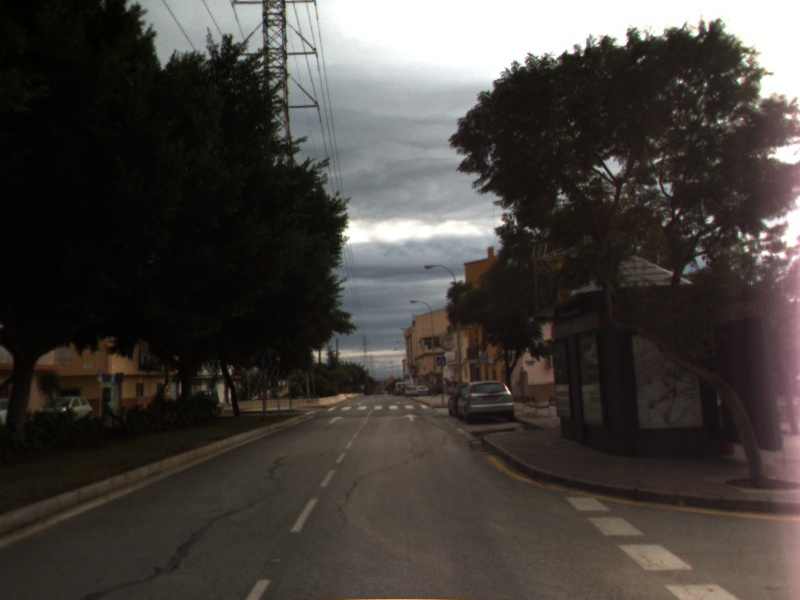STRAIGHT: (326, 414, 346, 426), (401, 411, 420, 423)
